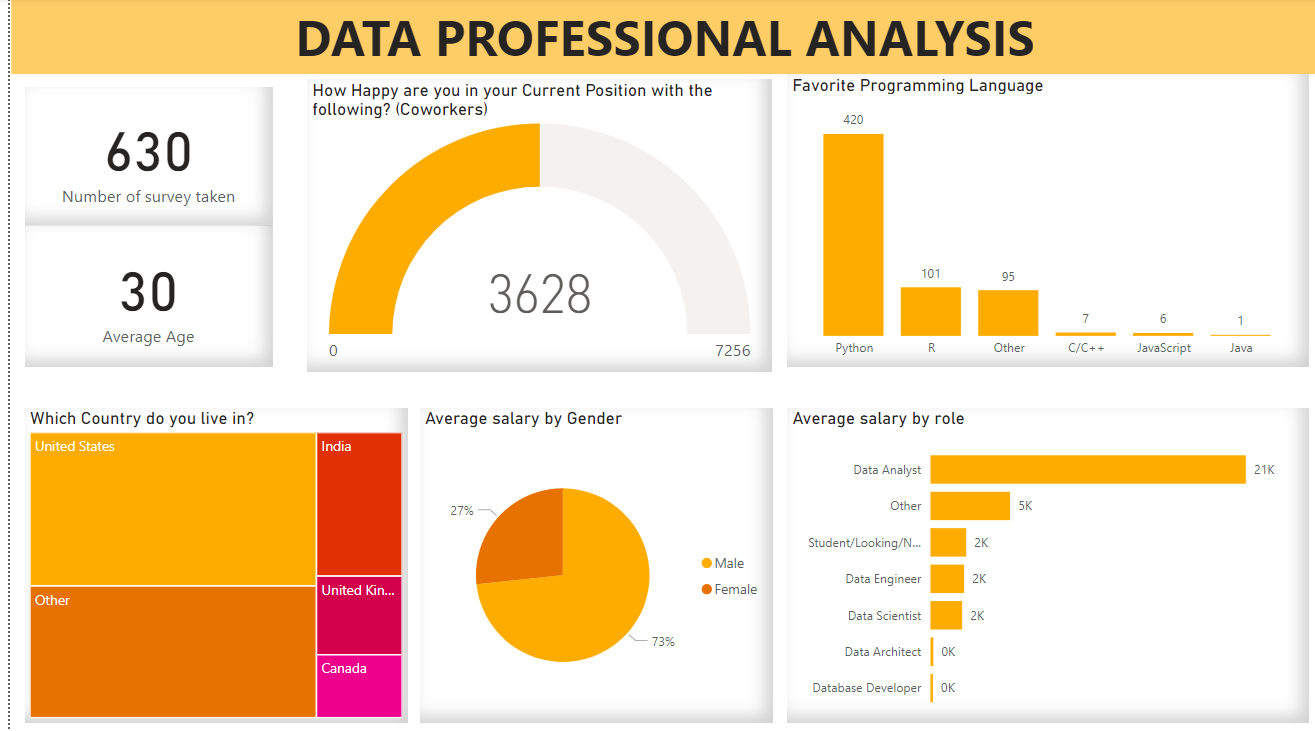

What the dashboard file says about the page in this screenshot:
{"tool":"powerbi","page":{"name":"Page 1","canvas":[1280,720],"ordinal":0},"visuals":[{"type":"card","fields":{"Values":["CountNonNull(Data Professional Survey.Unique ID)"]},"box":[14.7,86.8,242,135.7],"z":0},{"type":"card","fields":{"Values":["Avg(Data Professional Survey.Q10 - Current Age)"]},"box":[14.7,222.5,242,138.1],"z":1000},{"type":"barChart","title":"Average salary by role","fields":{"Category":["Data Professional Survey.Q1 - Which Title Best Fits your Current Role?"],"Y":["Sum(Data Professional Survey.Average salary)"]},"box":[760.3,401,509.7,308],"z":2000},{"type":"treemap","title":"Which Country do you live in?","fields":{"Group":["Data Professional Survey.Q11 - Which Country do you live in?"],"Values":["CountNonNull(Data Professional Survey.Q11 - Which Country do you live in?)"]},"box":[14.7,401,374.1,308],"z":3000},{"type":"clusteredColumnChart","title":"Favorite Programming Language","fields":{"Y":["CountNonNull(Data Professional Survey.Unique ID)"],"Category":["Data Professional Survey.Q5 - Favorite Programming Language"]},"box":[760.3,74.6,509.7,286],"z":4000},{"type":"pieChart","title":"Average salary by Gender","fields":{"Y":["Sum(Data Professional Survey.Average salary)"],"Category":["Data Professional Survey.Q9 - Male/Female?"]},"box":[401,401,344.7,308],"z":5000},{"type":"textbox","box":[1.4,0,1278.6,74.3],"z":6000},{"type":"gauge","title":"How Happy are you in your Current Position with the following? (Coworkers)","fields":{"Y":["Sum(Data Professional Survey.Q6 - How Happy are you in your Current Position with the following? (Coworkers))"]},"box":[290.9,79.5,454.7,286],"z":7000}]}

Visuals, with their boxes in screenshot pixels (x1, y1, x2, y2), scaled from the page's 1280x720 canvas onto the 1315x731 screenshot:
card - CountNonNull(Data Professional Survey.Unique ID): 15 88 264 226
card - Avg(Data Professional Survey.Q10 - Current Age): 15 226 264 366
"Average salary by role" barChart: 781 407 1305 720
"Which Country do you live in?" treemap: 15 407 399 720
"Favorite Programming Language" clusteredColumnChart: 781 76 1305 366
"Average salary by Gender" pieChart: 412 407 766 720
textbox: 1 0 1314 75
"How Happy are you in your Current Position with the following? (Coworkers)" gauge: 299 81 766 371
